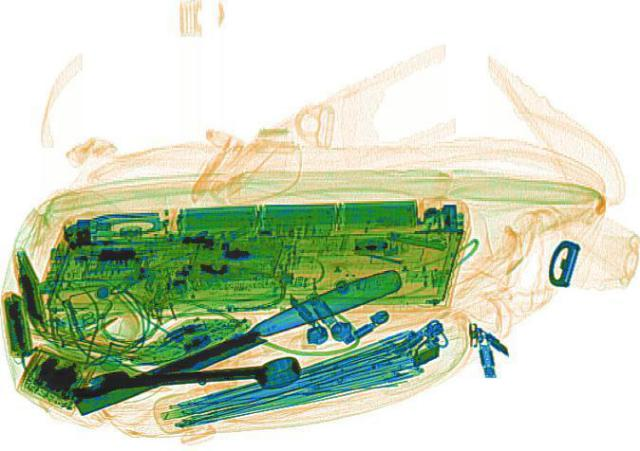Knife: (63, 262, 411, 418)
Wrench: (68, 353, 300, 399)
